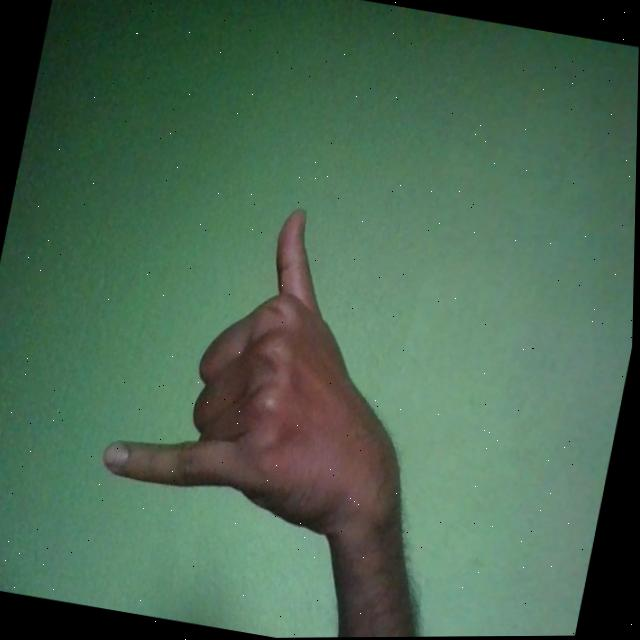Call Me: (97, 179, 457, 549)
